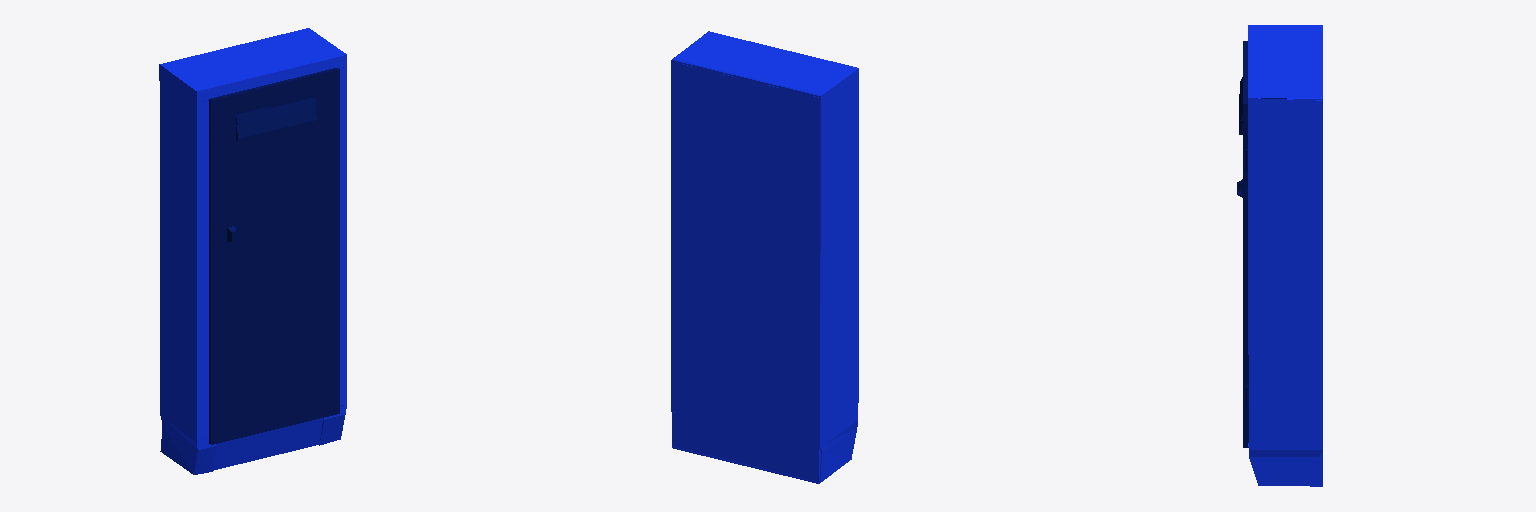
The model's file is locker.obj.
3 renders of one model, left to right at view 1: azimuth 30°, elevation 25°; view 2: azimuth 150°, elevation 25°; view 3: azimuth 270°, elevation 25°, orthographic.
Visible parts, largest first — view 1: School_Locker_Door, School_Locker; view 2: School_Locker; view 3: School_Locker, School_Locker_Door.
Part boxes in pixels (left/top/right/bottom): School_Locker_Door: left=209, top=68, right=339, bottom=444; School_Locker: left=159, top=28, right=346, bottom=474; School_Locker: left=671, top=31, right=858, bottom=483; School_Locker: left=1248, top=25, right=1322, bottom=486; School_Locker_Door: left=1237, top=41, right=1248, bottom=447.
Bounding box in the file's own units: 2.04 × 5.03 × 1.02.